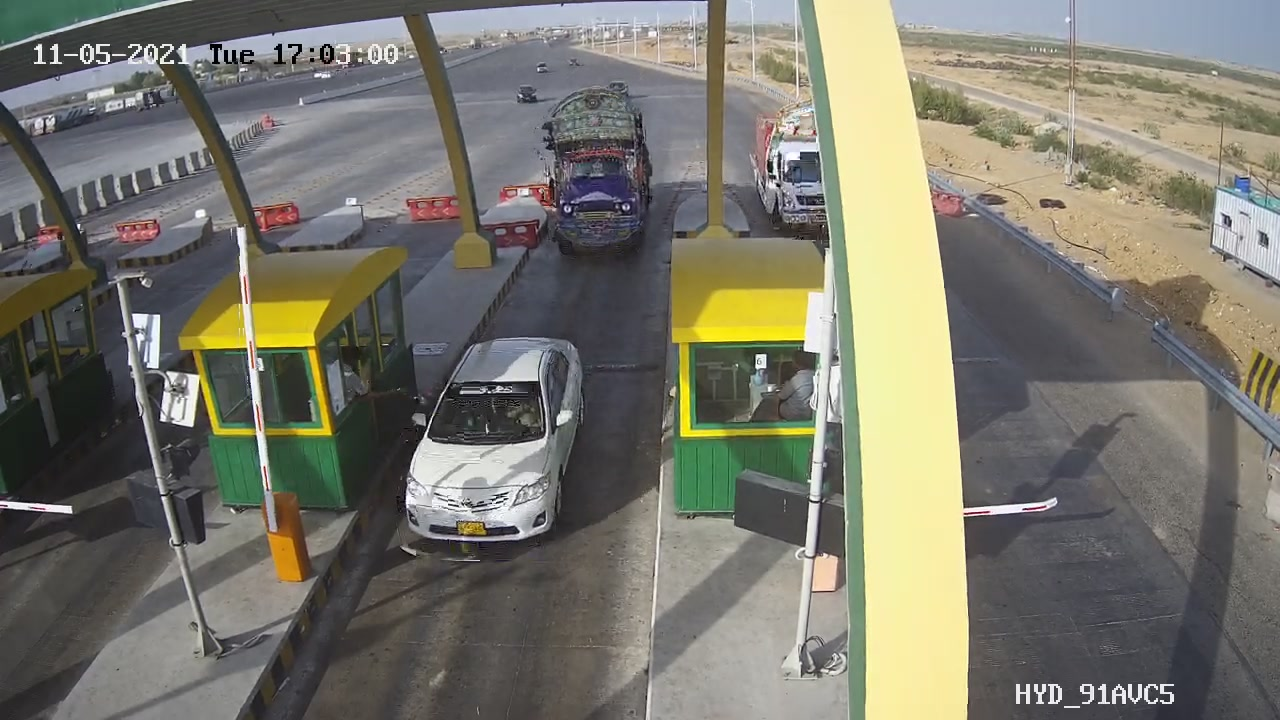F1: (382, 318, 607, 562)
